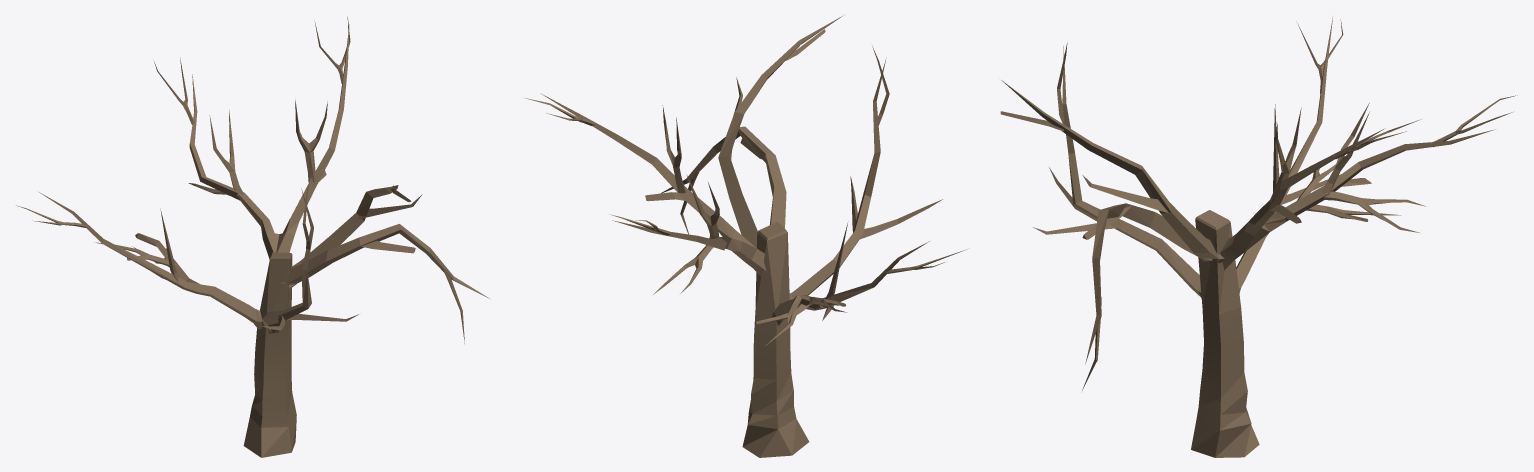
File: tree_bare_a_4.FBX
3 renders of one model, left to right at view 1: azimuth 30°, elevation 25°; view 2: azimuth 150°, elevation 25°; view 3: azimuth 270°, elevation 25°, orthographic. The views are drawn at different scales.
Parts seen in each view (by area): view 1: tree_bare_a_4; view 2: tree_bare_a_4; view 3: tree_bare_a_4.
Part boxes in pixels (<box>): tree_bare_a_4: <box>16,16,489,457</box>; tree_bare_a_4: <box>523,15,967,457</box>; tree_bare_a_4: <box>1000,17,1517,457</box>.
Bounding box in the file's own units: 4.99 × 4.3 × 5.01.
